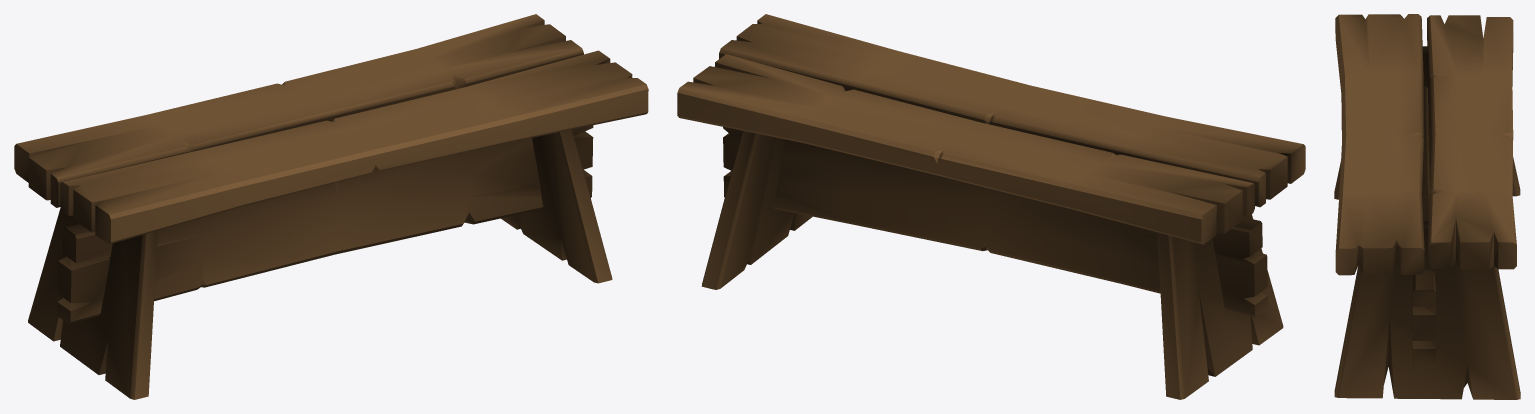
The model's file is obj_bench.FBX.
The picture shows the model from 3 angles, left to right: view 1: azimuth 30°, elevation 25°; view 2: azimuth 150°, elevation 25°; view 3: azimuth 270°, elevation 25°; orthographic projection. The views are drawn at different scales.
Visible parts, largest first — view 1: obj_bench; view 2: obj_bench; view 3: obj_bench.
Boxes of the visible parts, x1,y1,x2,y2 form: obj_bench: [14, 14, 648, 399]; obj_bench: [677, 14, 1305, 399]; obj_bench: [1334, 14, 1520, 399].
Size of the model in its own units: 3.36 by 1.13 by 1.13.
